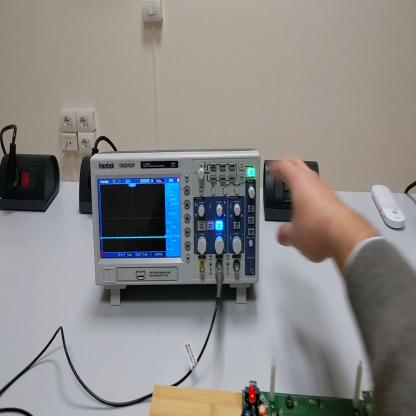hand: (269, 154, 340, 265)
low voltage board: (246, 357, 378, 415)
oscilloscope: (90, 148, 262, 308)
socket: (2, 151, 63, 212), (79, 157, 92, 213)
working area: (151, 385, 244, 414)
